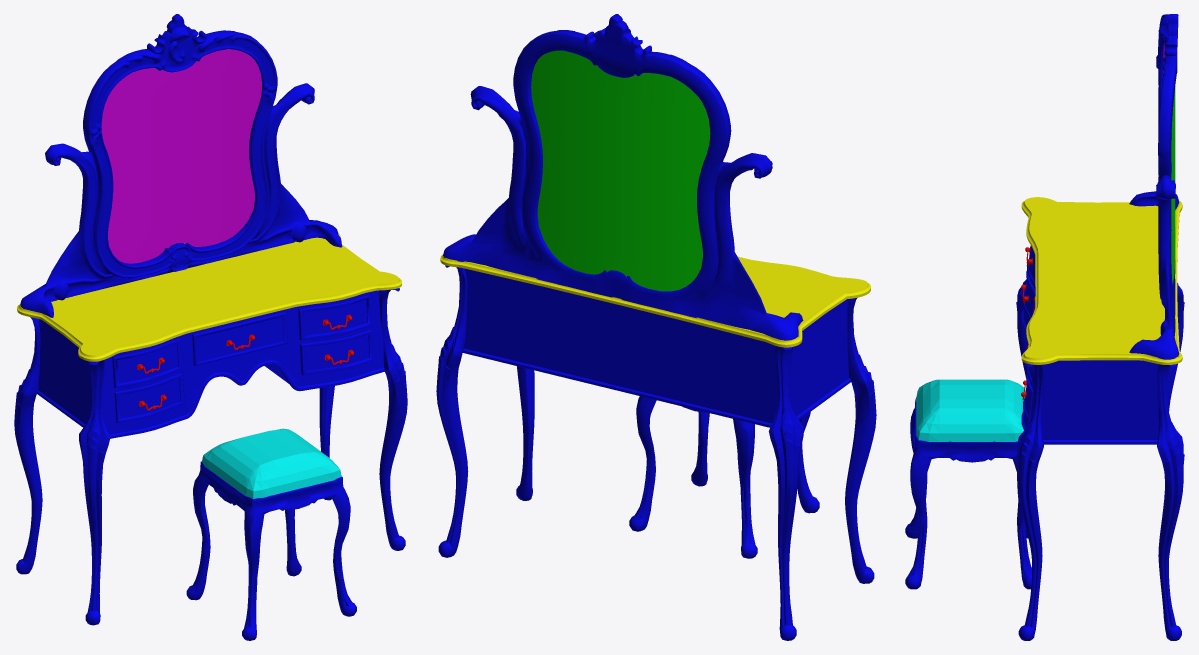
File: VanityFurniture3UV.fbx
The picture shows the model from 3 angles, left to right: view 1: azimuth 30°, elevation 25°; view 2: azimuth 150°, elevation 25°; view 3: azimuth 270°, elevation 25°; orthographic projection. The views are drawn at different scales.
Parts seen in each view (by area): view 1: frontmirror, Consolle, frame, MarbleTop, Seat, Padding, drawerCX, drawerBR, drawerTR, drawerTL, drawerBL; view 2: Consolle, backmirror, frame, MarbleTop, Seat; view 3: MarbleTop, Consolle, Padding, frame, Seat, backmirror.
Part boxes in pixels (x1=…): frontmirror: x1=101, y1=49, x2=261, y2=263; Consolle: x1=14, y1=288, x2=407, y2=625; frame: x1=20, y1=14, x2=342, y2=317; MarbleTop: x1=17, y1=233, x2=401, y2=361; Seat: x1=186, y1=461, x2=356, y2=640; Padding: x1=202, y1=428, x2=341, y2=498; drawerCX: x1=192, y1=312, x2=287, y2=365; drawerBR: x1=299, y1=329, x2=372, y2=375; drawerTR: x1=298, y1=294, x2=370, y2=340; drawerTL: x1=112, y1=338, x2=182, y2=387; drawerBL: x1=114, y1=373, x2=184, y2=422; Consolle: x1=436, y1=265, x2=876, y2=640; backmirror: x1=531, y1=50, x2=710, y2=291; frame: x1=443, y1=14, x2=803, y2=340; MarbleTop: x1=440, y1=254, x2=870, y2=347; Seat: x1=629, y1=396, x2=819, y2=558; MarbleTop: x1=1021, y1=197, x2=1182, y2=364; Consolle: x1=1016, y1=278, x2=1184, y2=640; Padding: x1=916, y1=379, x2=1025, y2=441; frame: x1=1129, y1=14, x2=1179, y2=359; Seat: x1=905, y1=398, x2=1031, y2=589; backmirror: x1=1171, y1=87, x2=1175, y2=283.
Bounding box in the file's own units: 11.1 × 17.15 × 7.9.
